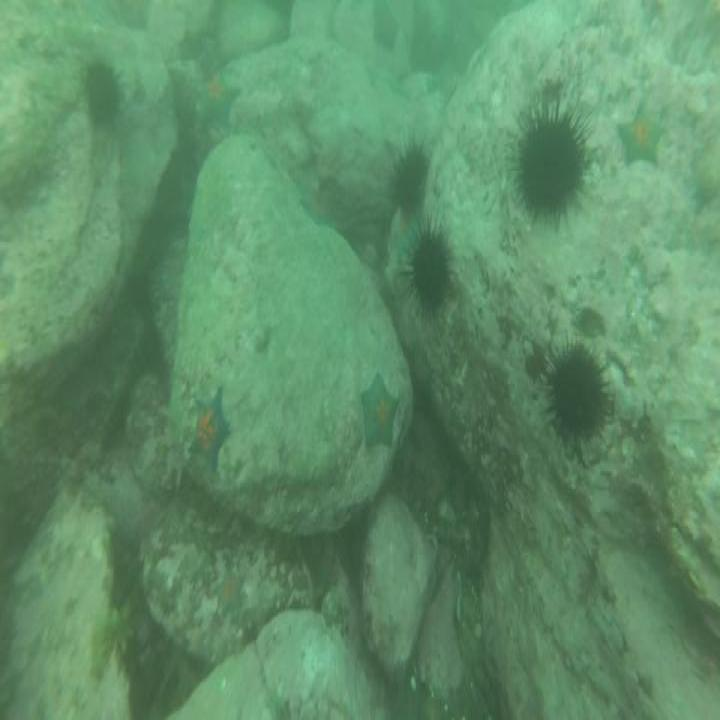echinus: (508, 84, 592, 231), (539, 327, 617, 462), (403, 222, 456, 331), (385, 132, 431, 228), (79, 54, 130, 134)
holothurian: (89, 601, 137, 686)
starfish: (187, 382, 236, 480), (613, 96, 668, 172), (188, 69, 245, 137), (358, 366, 401, 454), (206, 565, 250, 624), (370, 0, 402, 53)
